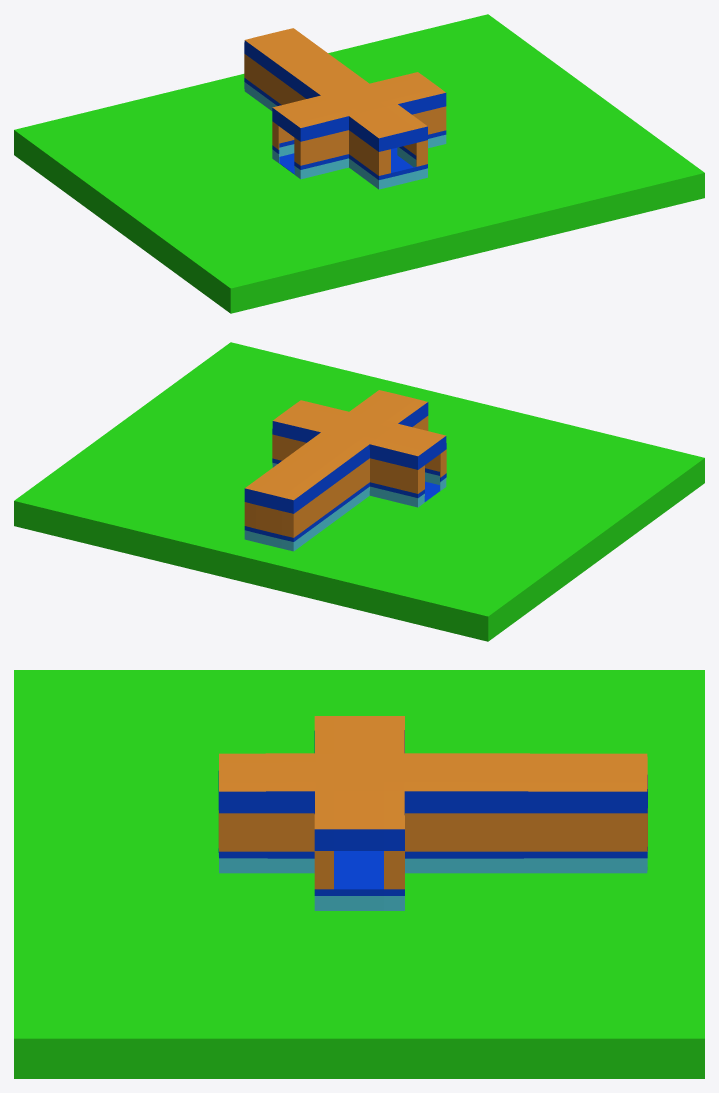
The model's file is EscenariosPruebaIluminacion.fbx.
3 views of the same model, one above another, from view 1: azimuth 30°, elevation 25°; view 2: azimuth 150°, elevation 25°; view 3: azimuth 270°, elevation 25° (orthographic). The views are drawn at different scales.
Parts seen in each view (by area): view 1: suelo, casa; view 2: suelo, casa; view 3: suelo, casa.
Boxes of the visible parts, box(x1,y1,x2,y2) form: suelo: box(14, 14, 704, 313); casa: box(244, 28, 446, 189); suelo: box(14, 342, 704, 641); casa: box(244, 390, 446, 551); suelo: box(14, 670, 704, 1078); casa: box(218, 716, 647, 910).
Size of the model in its own units: 1967 by 304 by 1557.
